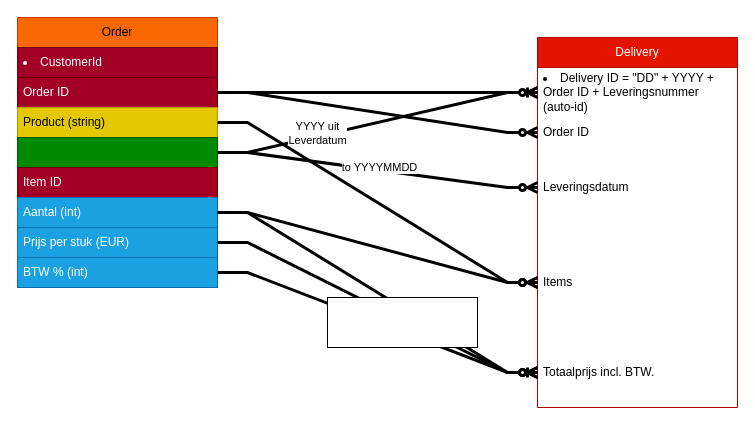
This 755x425 diagram has some shape labels left out. Each missing label, with the centre of its shape:
Leverdatum (YYYY-MM-DD): [117,152]
Totaalprijs = (aantal * prijs)*(100+btw)/100: [402,322]
